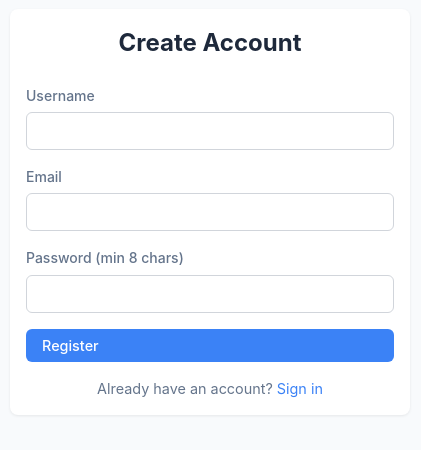
it: RegisterView › shows server error message from response on failure
This screenshot has width=421, height=450.
Step 1. Type "alice" into the field with id "username" → (210, 131), box [26,112,394,150]
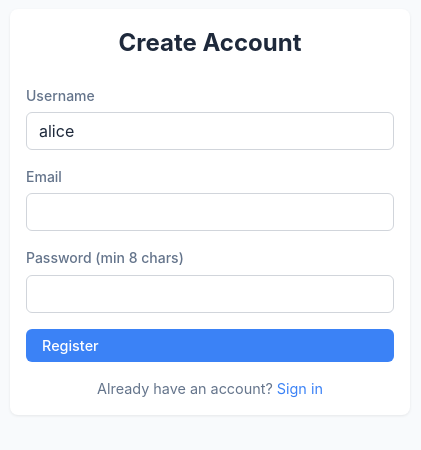
Step 2. Type "taken@b.com" into the field with id "email" → (210, 212), box [26,193,394,231]
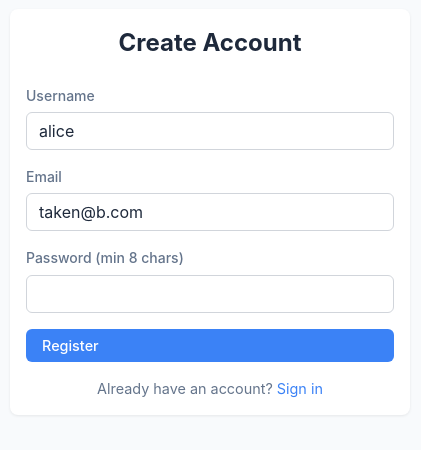
Step 3. Type "pass1234" into the password field labelled "Password (min 8 chars)" → (210, 294), box [26,275,394,313]
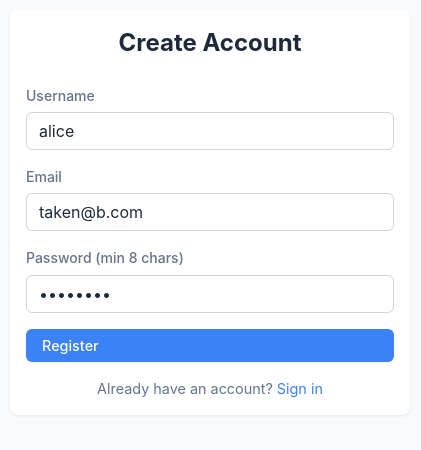
Step 4. Submit the form, box [26,85,394,362]
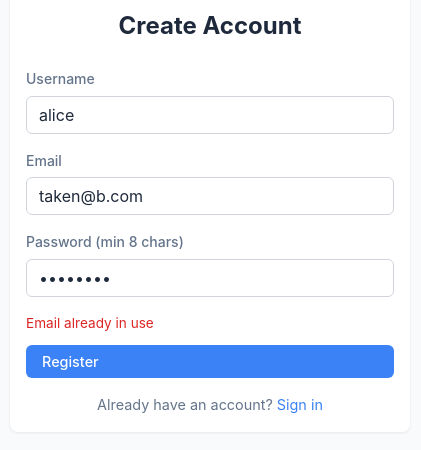
expect the text "Email already in use" is shown: met, box [26,315,154,331]
